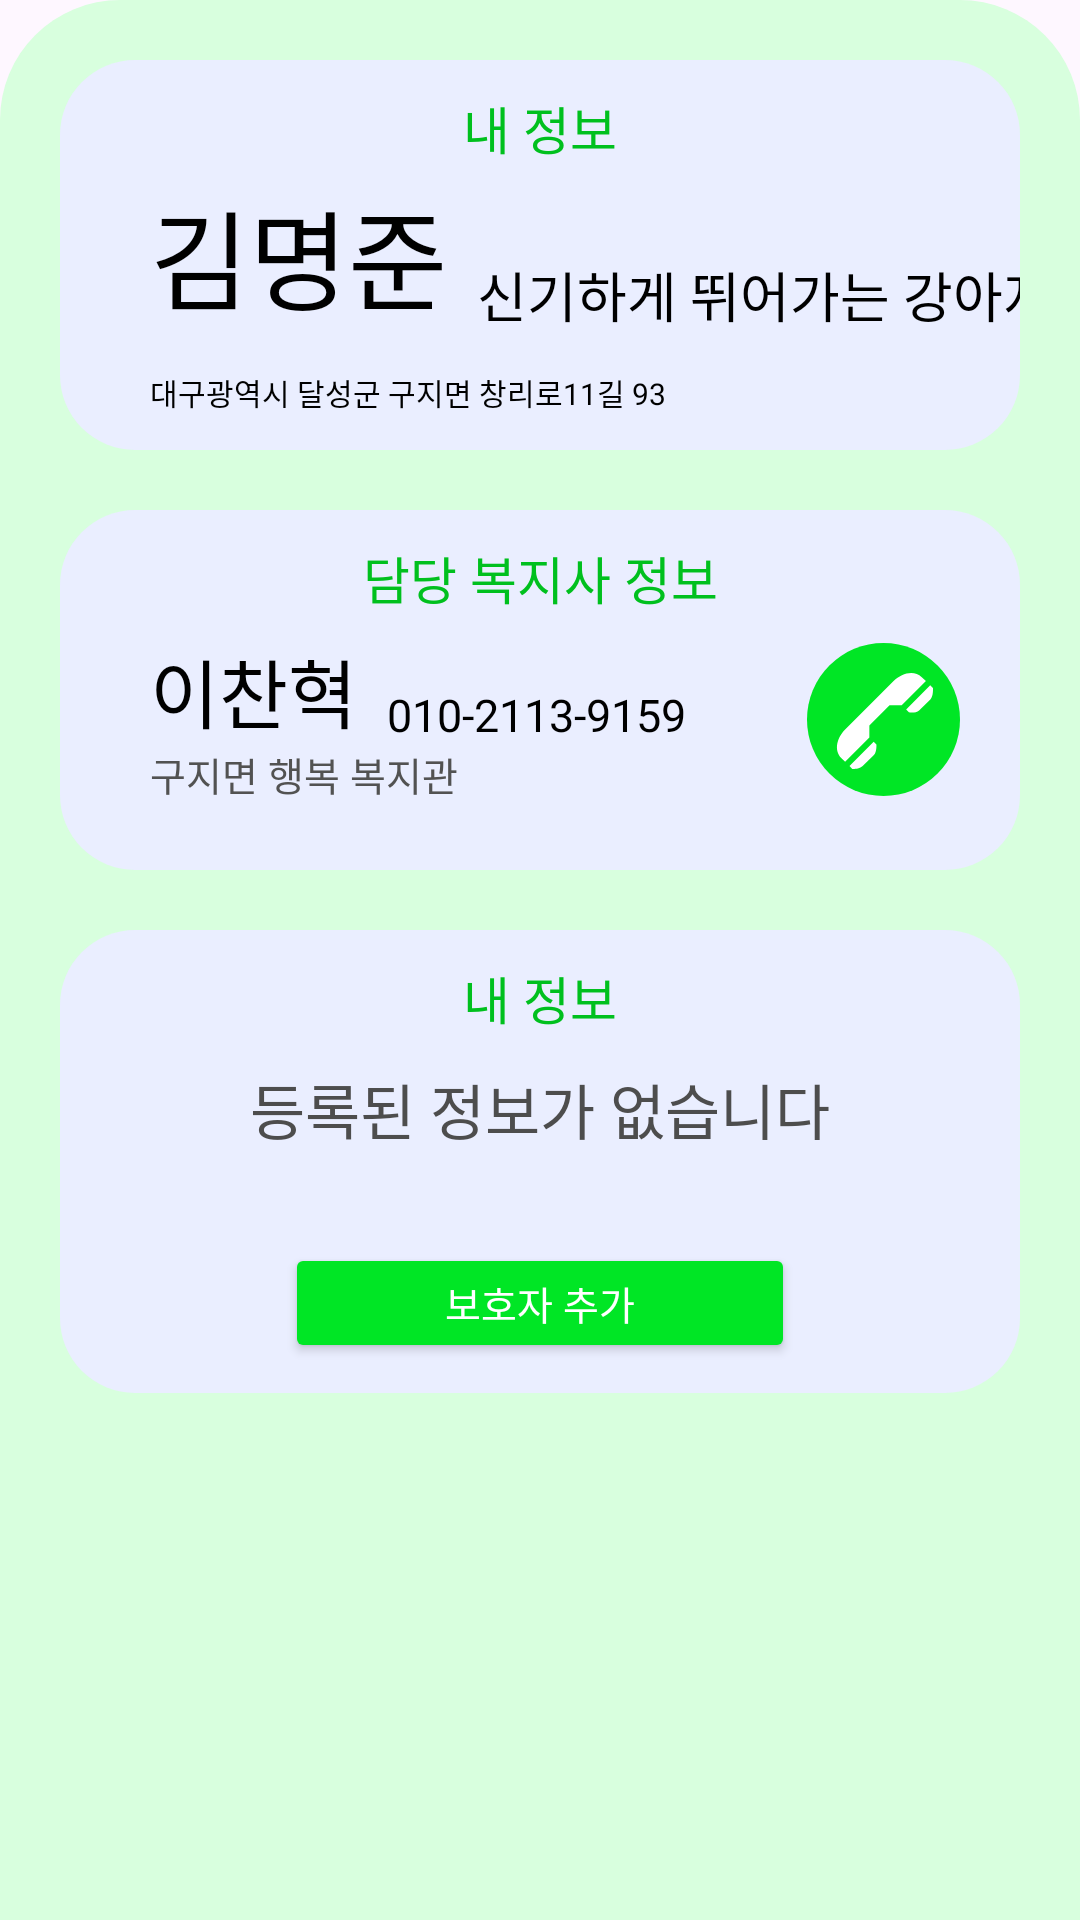

Screen size 1080w x 1920h. Icon name, then its center in pixels as (x,y):
phone call: (883,719)
